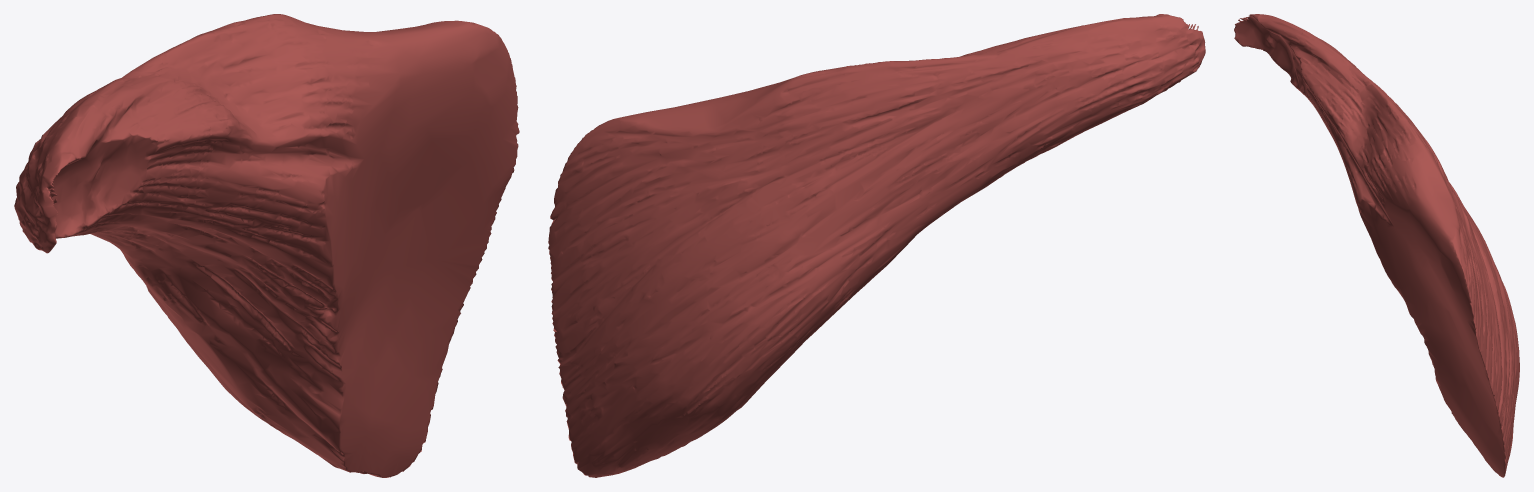
Rendered from FMA32547.glb.
3 views of the same model, side by side, from view 1: azimuth 30°, elevation 25°; view 2: azimuth 150°, elevation 25°; view 3: azimuth 270°, elevation 25° (orthographic). The views are drawn at different scales.
Visible parts, largest first — view 1: FMA32547; view 2: FMA32547; view 3: FMA32547.
Part boxes in pixels (x1,y1,x2,y2): FMA32547: (14, 14, 519, 477); FMA32547: (548, 14, 1205, 477); FMA32547: (1234, 14, 1519, 477).
Bounding box in the file's own units: 0.1283 × 0.11 × 0.0889.
